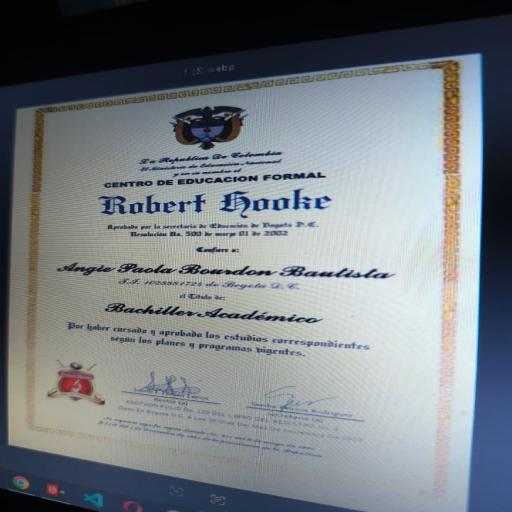bachillerato: (90, 293, 344, 329)
diploma: (10, 56, 480, 510)
escudo: (154, 100, 258, 159)
firma: (230, 380, 386, 435), (114, 365, 237, 411)
institucion: (88, 163, 337, 195)
nombre: (47, 252, 424, 284)
